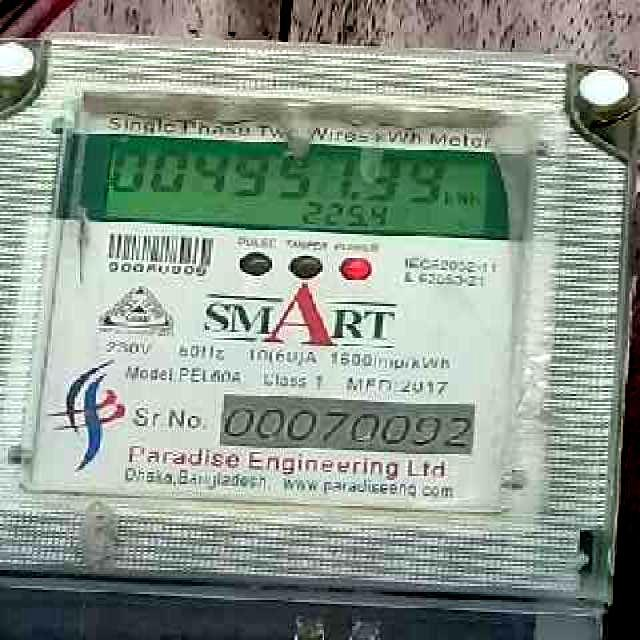LCD: (74, 125, 531, 245)
